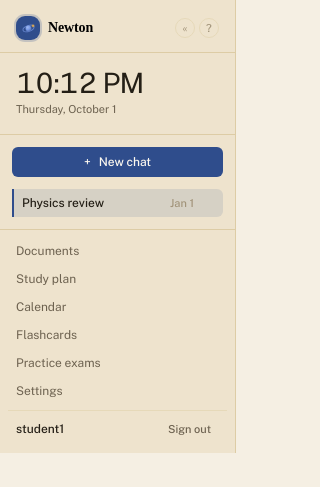
Scenario: Sidebar › collapses to a slim icon-only rail when the collapse toggle is clicked, hiding the session list
Click the button named "Collapse sidebar": (185, 28) [175, 18, 195, 38]
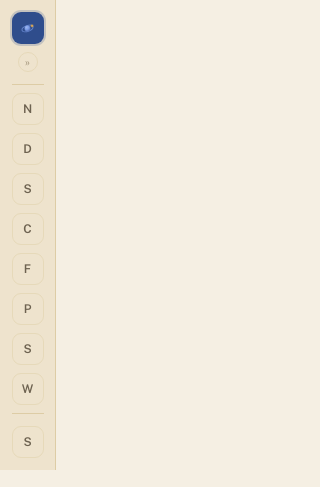
Expected: the button named "New chat" is shown, [12, 93, 44, 125]
Expected: the button "Physics review" is gone
Expected: the button named "Expand sidebar" is shown, [18, 52, 38, 72]
